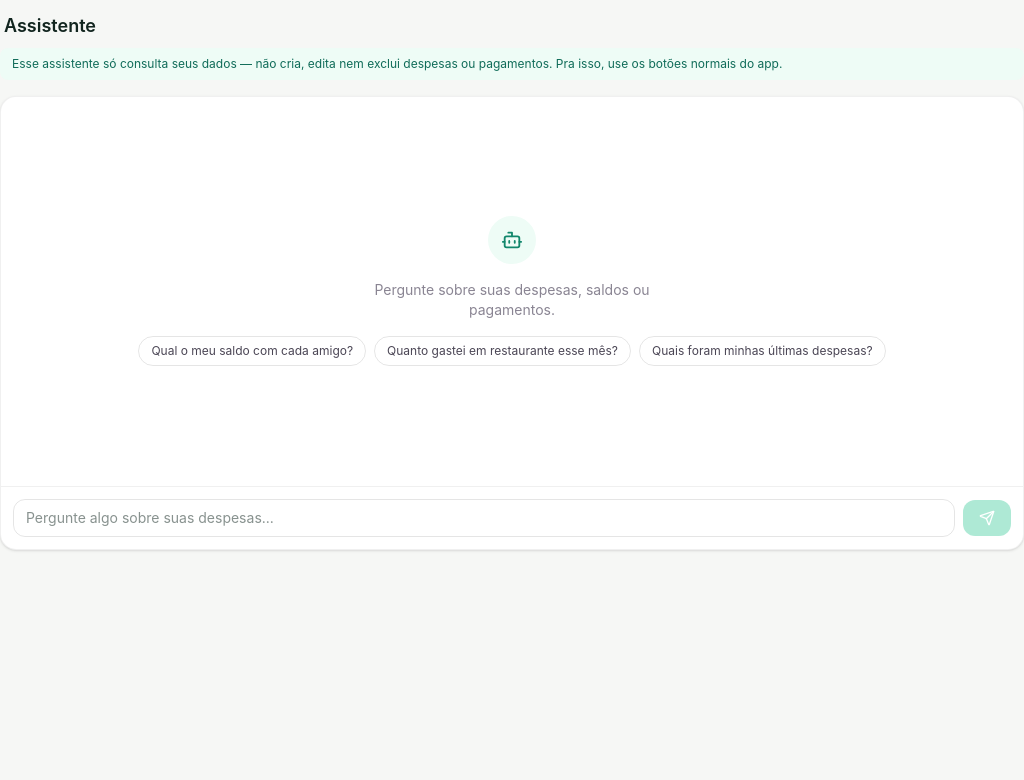
Test: Assistant › sends a message and renders the reply
Type "quanto eu devo?" into the field with placeholder "Pergunte algo sobre suas despesas..." at (484, 518), box top-left (13, 499), bottom-right (955, 537)
Then press Enter
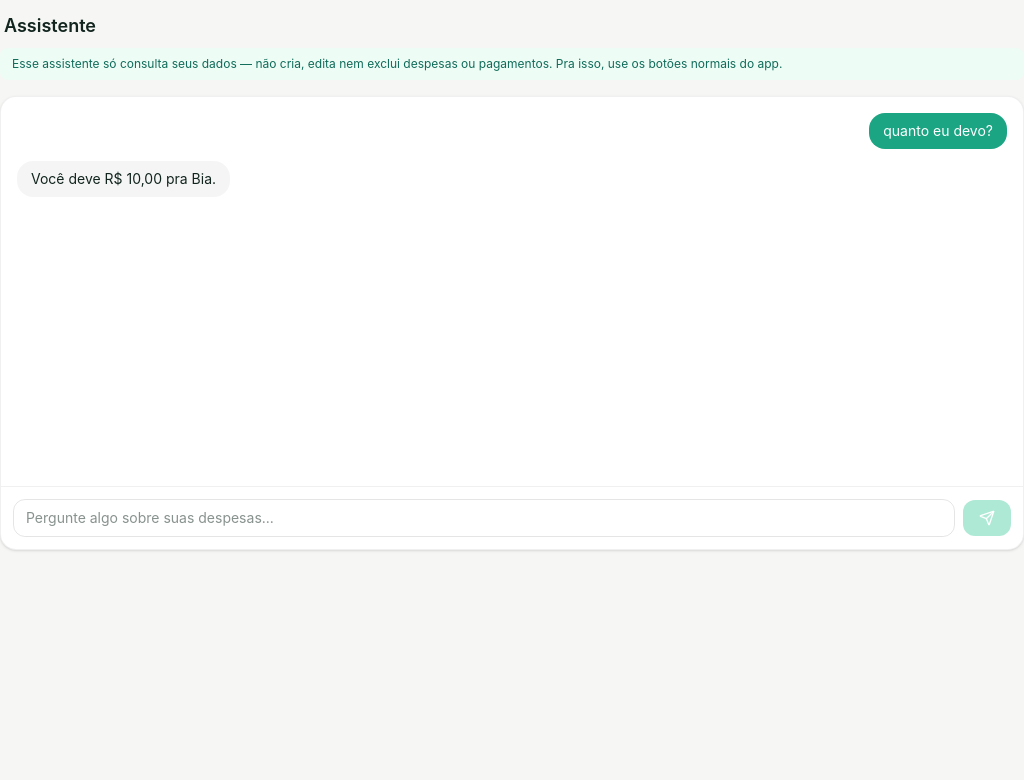
Result: the text "quanto eu devo?" is shown at top-left (869, 113), bottom-right (1007, 149)
Result: the text "Você deve R$ 10,00 pra Bia." is shown at top-left (17, 161), bottom-right (230, 197)
